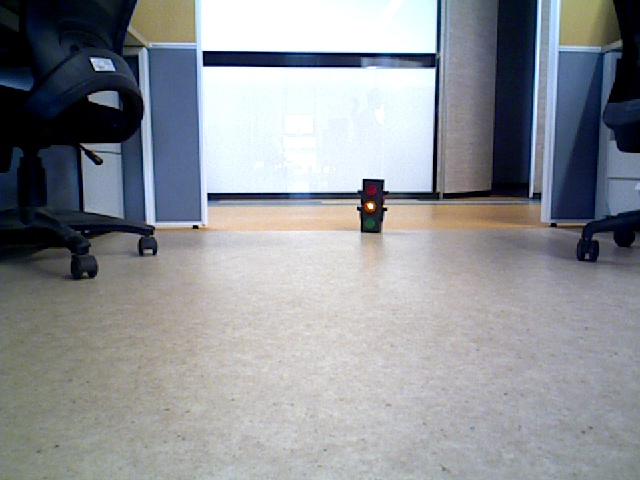yellow: (363, 181, 383, 228)
